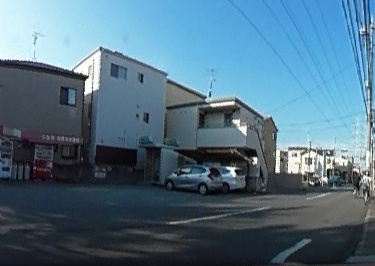person: (360, 172, 370, 198), (353, 174, 361, 194)
